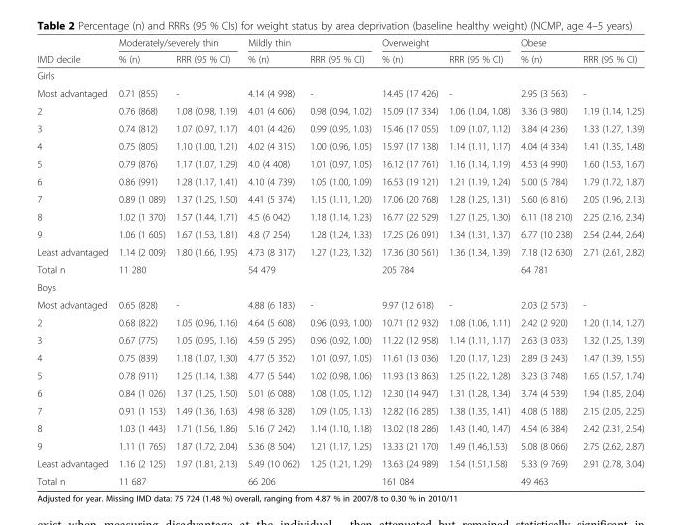table: (36, 36, 643, 486)
table column: (36, 36, 112, 486), (304, 36, 376, 486), (442, 36, 514, 486), (170, 36, 241, 486), (576, 36, 643, 486), (376, 36, 442, 486), (241, 36, 304, 486), (514, 36, 576, 486), (112, 36, 170, 486)
table column header: (36, 36, 643, 66)
table projected row header: (36, 66, 643, 84), (36, 278, 643, 295)
table row: (36, 66, 643, 84), (36, 101, 643, 119), (36, 136, 643, 154), (36, 154, 643, 172), (36, 189, 643, 207), (36, 207, 643, 225), (36, 242, 643, 260), (36, 260, 643, 278), (36, 295, 643, 313), (36, 330, 643, 348), (36, 348, 643, 366), (36, 383, 643, 401), (36, 401, 643, 419), (36, 436, 643, 454), (36, 454, 643, 472), (36, 84, 643, 101), (36, 119, 643, 136), (36, 172, 643, 189), (36, 225, 643, 242), (36, 278, 643, 295), (36, 313, 643, 330), (36, 366, 643, 383), (36, 419, 643, 436), (36, 50, 643, 66), (36, 36, 643, 50), (36, 472, 643, 486)
table spanning cell: (36, 36, 112, 66), (376, 36, 514, 50), (241, 36, 376, 50), (112, 36, 241, 50), (514, 36, 643, 50)
